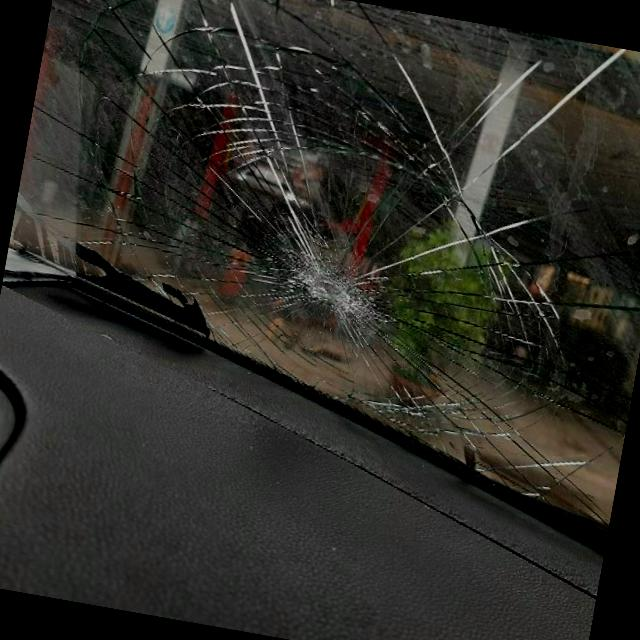Fissure: (328, 309, 638, 547), (20, 149, 267, 289), (285, 37, 433, 181), (209, 290, 306, 371), (271, 235, 357, 307)
